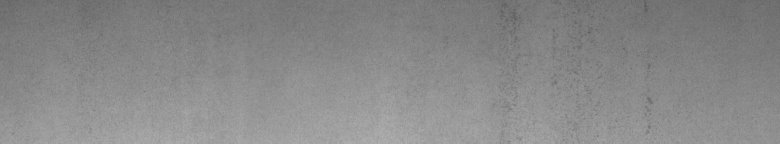ib: (513, 4, 653, 133)
